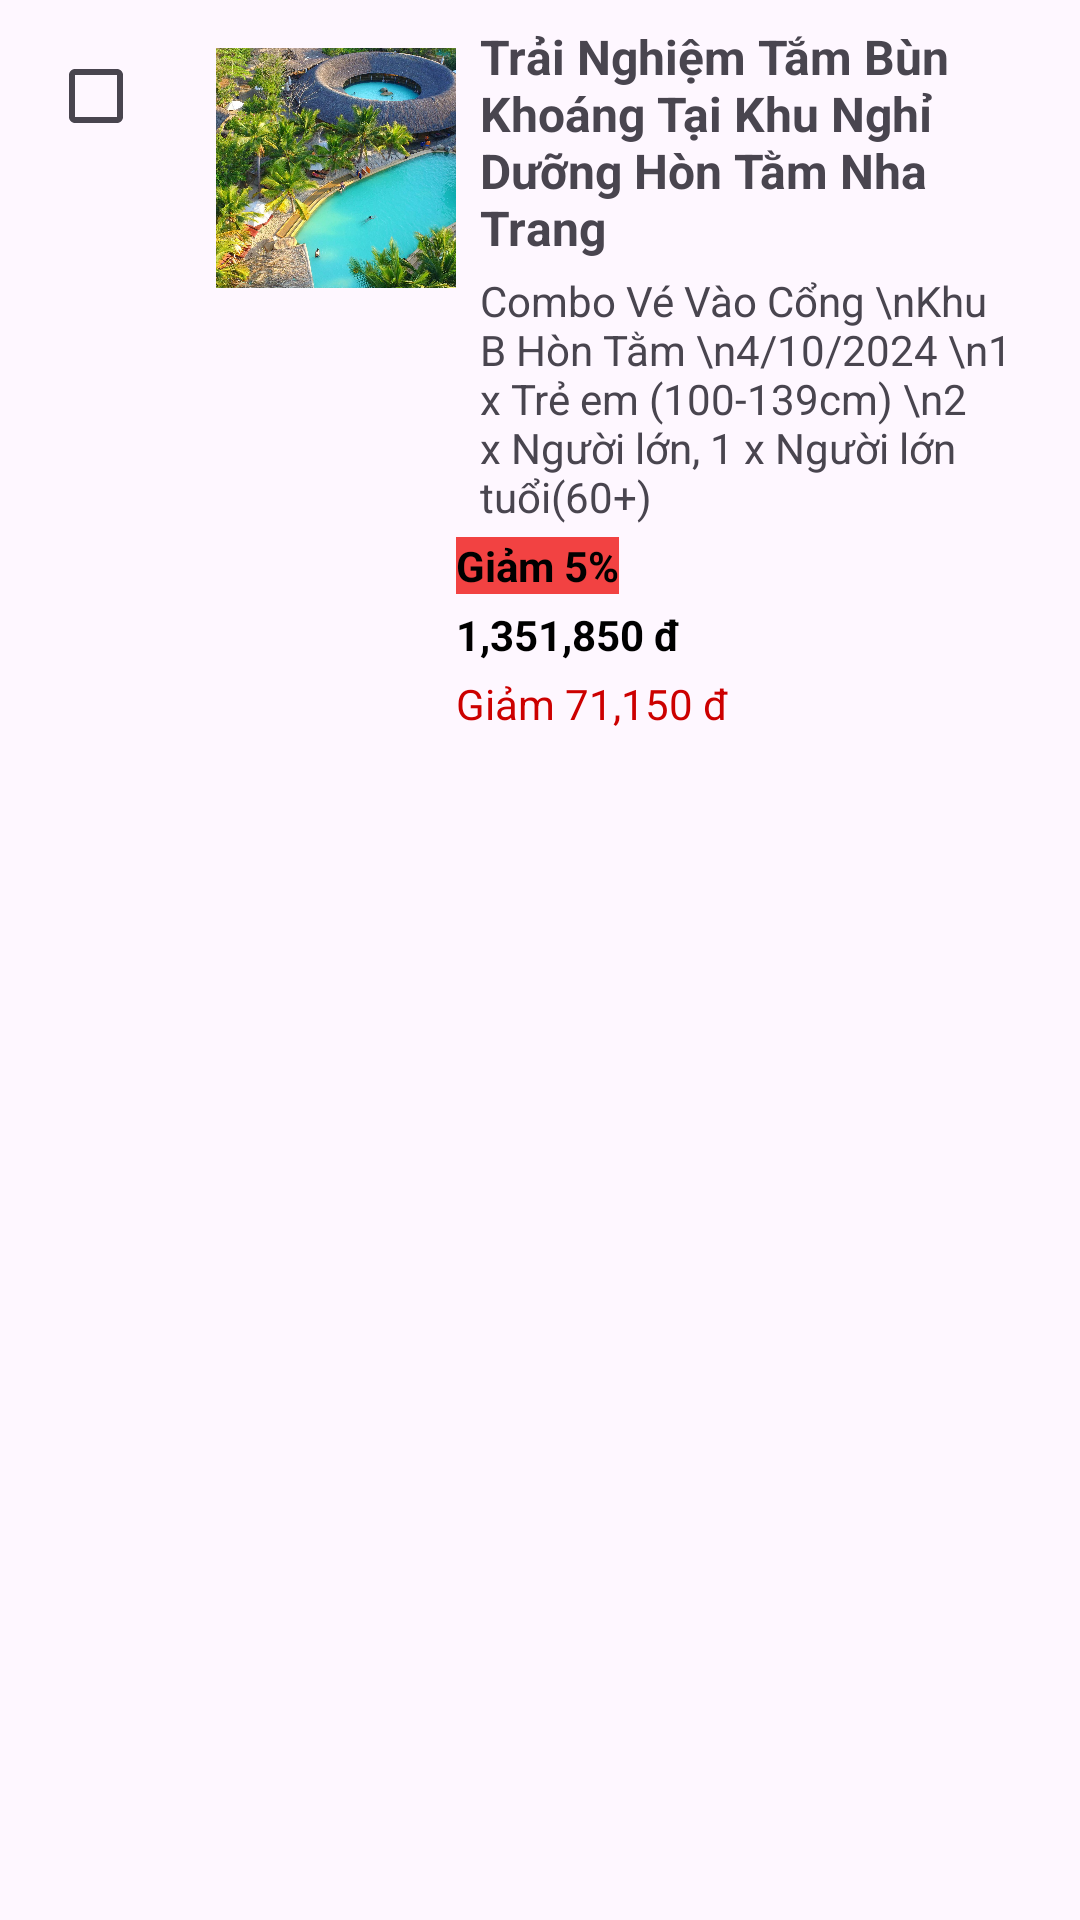

Where to tap for icons on this 1080 x 1920 app screen, as (x,y):
goitambun: (336,168)
